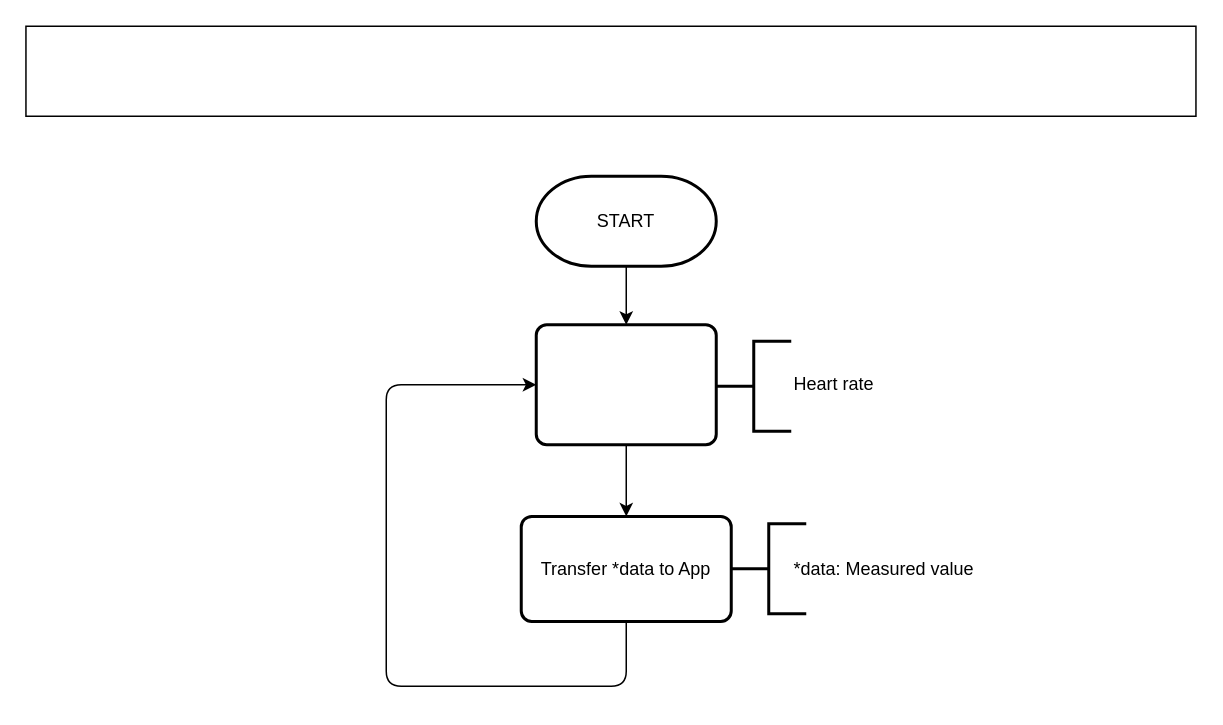
This 1223x725 diagram has some shape labels left out. Each missing label, with the centre of its shape:
Measure "every" 1 sec: (x=625, y=384)
Real-time heart_rate data transfer Flow chart: (x=610, y=70)
